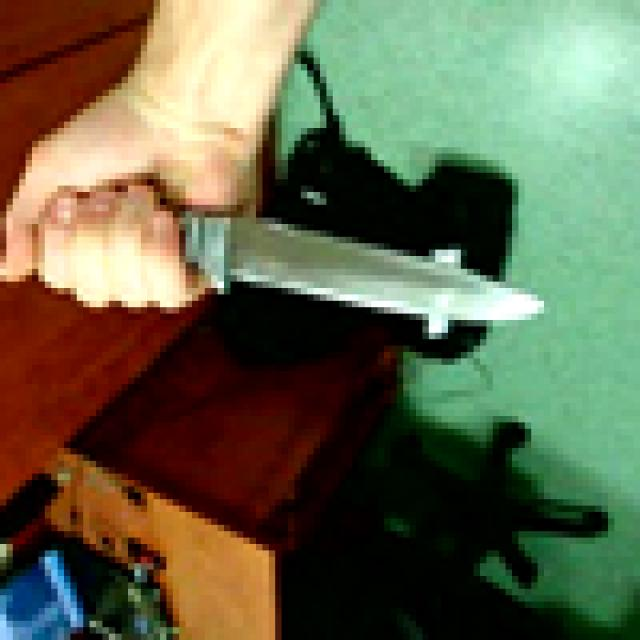weapon: (13, 173, 550, 339)
